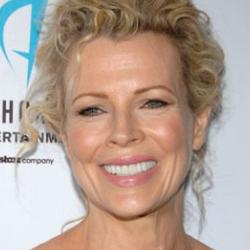face: (18, 5, 226, 217)
